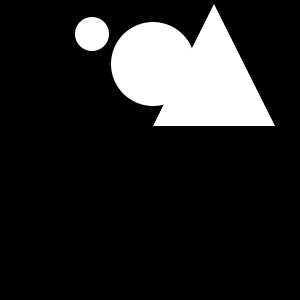rectangle: (111, 22, 195, 106), (75, 17, 109, 51)
triangle: (153, 4, 275, 126)
